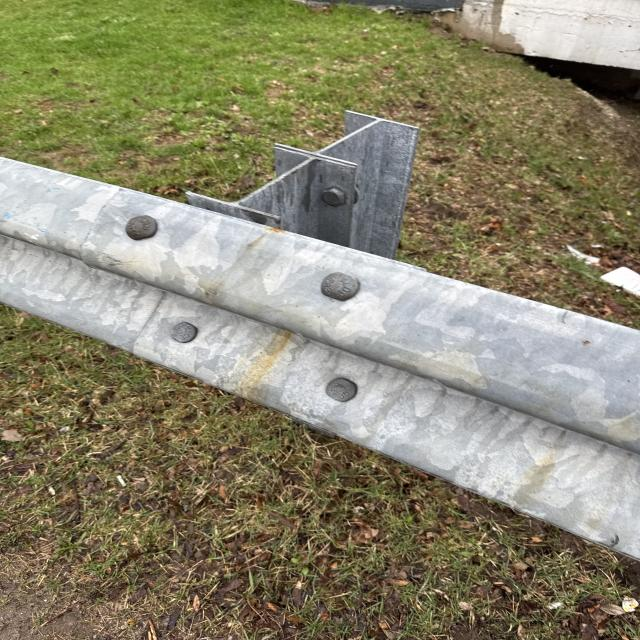Guard rail: (8, 165, 618, 412), (182, 116, 420, 250)
